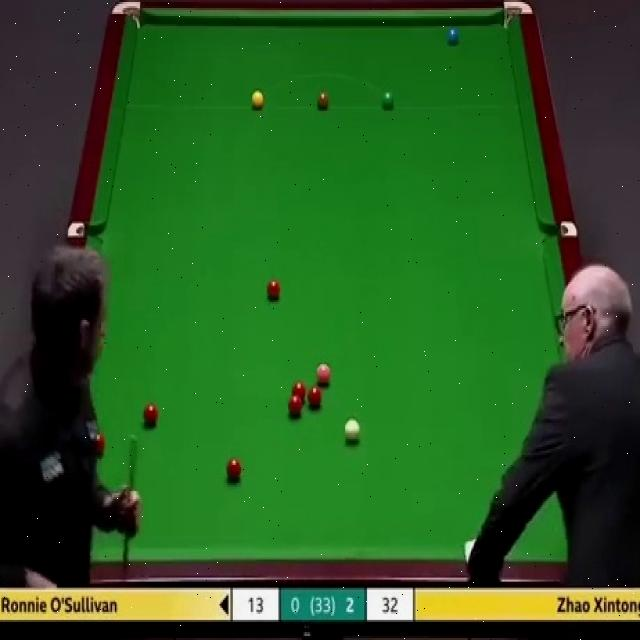blue-ball: (448, 27, 458, 48)
brown-ball: (316, 93, 330, 109)
green-ball: (382, 89, 396, 112)
pink-ball: (315, 363, 332, 384)
red-ball: (286, 392, 303, 417), (225, 456, 242, 480), (144, 403, 158, 426), (292, 381, 306, 404), (265, 279, 281, 299), (308, 388, 323, 407)
white-ball: (343, 420, 362, 446)
yellow-ball: (250, 90, 265, 110)
